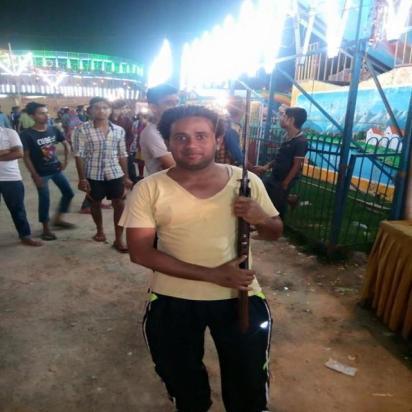Gun: (233, 88, 256, 336)
